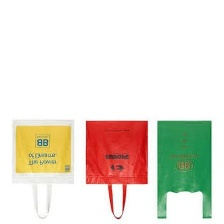plastic_bag: (8, 114, 79, 221), (82, 119, 150, 220), (153, 117, 216, 221)
